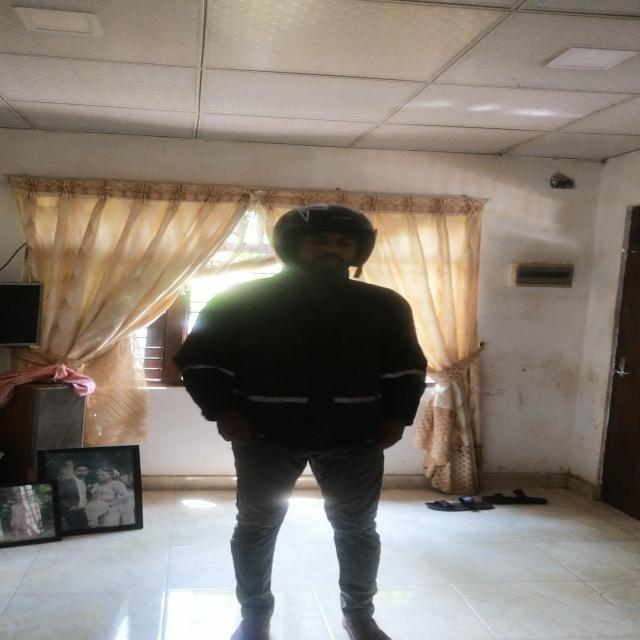Helmet_Wearer: (255, 203, 385, 290)
Jacket_Wearer: (180, 275, 430, 463)
Person: (182, 206, 434, 640)
